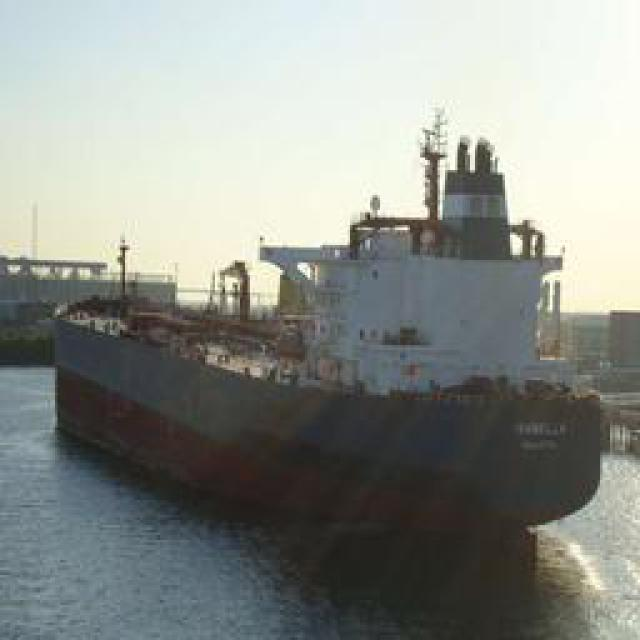Ship: (38, 85, 613, 563)
